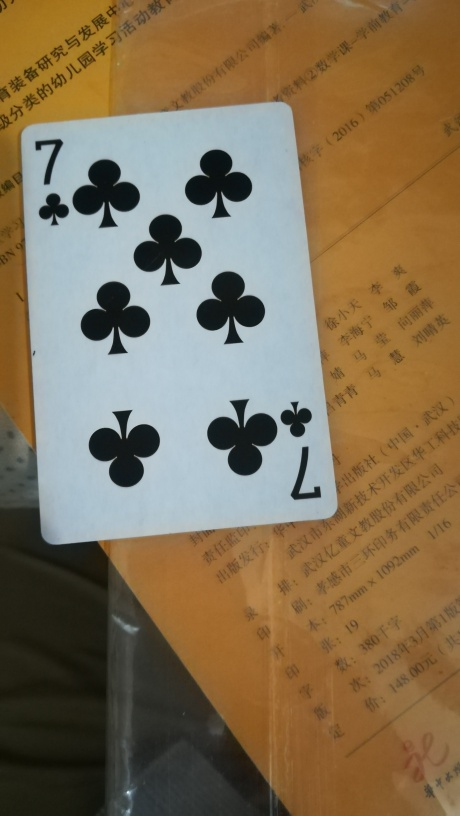mh 7: (18, 99, 350, 549)
